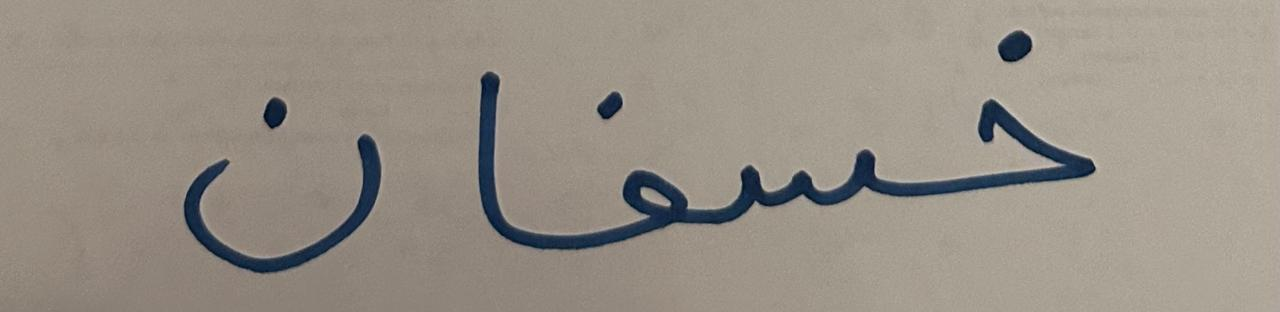alef: (438, 25, 553, 279)
feh: (558, 30, 712, 289)
lam: (911, 9, 1131, 273)
qaf: (159, 17, 433, 295)
tah: (715, 16, 907, 259)
